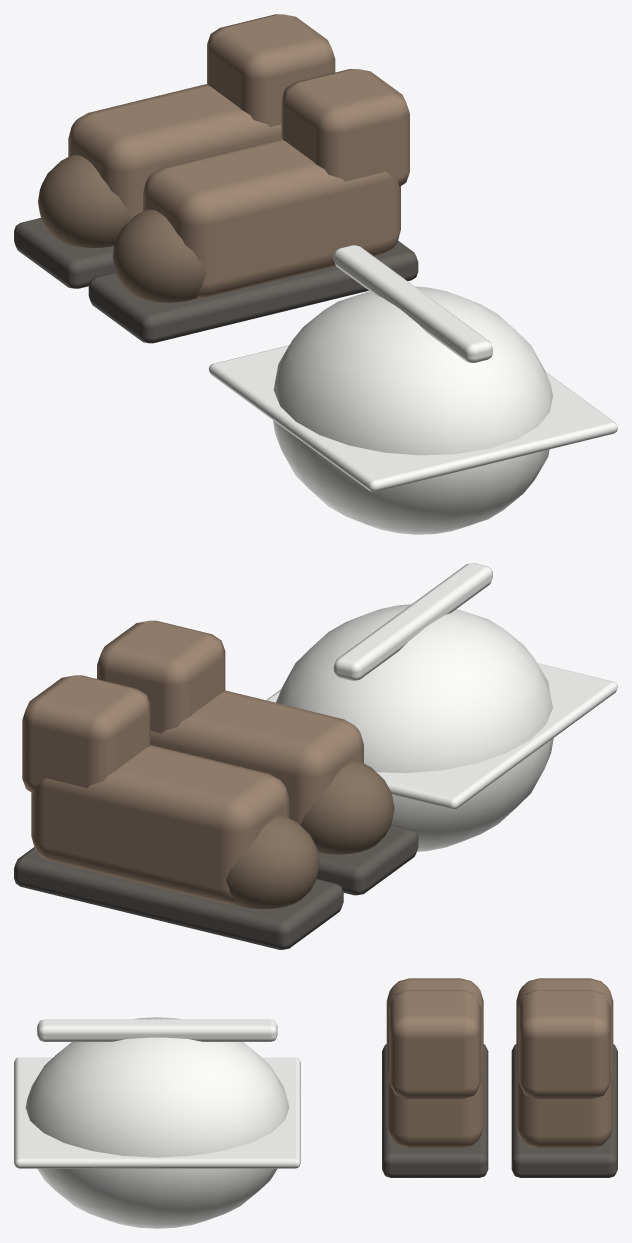
File: escena.casa.casco_obra.fbx
3 renders of one model, top to bottom at view 1: azimuth 30°, elevation 25°; view 2: azimuth 150°, elevation 25°; view 3: azimuth 270°, elevation 25°, orthographic. The views are drawn at different scales.
Parts seen in each view (by area): view 1: Casco, Bota, Bota.001, Ala del casco, Cana, Suela, Cana.001, Puntera, Puntera.001, Nervio, Suela.001; view 2: Casco, Bota.001, Bota, Cana.001, Suela.001, Cana, Ala del casco, Puntera.001, Puntera, Nervio, Suela; view 3: Casco, Cana.001, Cana, Ala del casco, Bota.001, Bota, Nervio, Suela, Suela.001.
Part boxes in pixels (x1,y1,x2,y2): Casco: (273, 286, 552, 534); Bota: (143, 138, 400, 297); Bota.001: (68, 84, 281, 218); Ala del casco: (208, 345, 617, 491); Cana: (281, 69, 409, 186); Suela: (88, 241, 418, 343); Cana.001: (207, 14, 335, 126); Puntera: (112, 209, 206, 302); Puntera.001: (38, 155, 131, 247); Nervio: (333, 245, 492, 362); Suela.001: (14, 218, 115, 288); Casco: (276, 604, 553, 851); Bota.001: (31, 745, 289, 904); Bota: (150, 690, 363, 825); Cana.001: (22, 675, 150, 793); Suela.001: (14, 847, 343, 949); Cana: (97, 620, 225, 733); Ala del casco: (266, 663, 617, 809); Puntera.001: (226, 816, 319, 908); Puntera: (300, 761, 394, 854); Nervio: (333, 563, 492, 680); Suela: (316, 824, 418, 895); Casco: (25, 1017, 289, 1228); Cana.001: (518, 990, 610, 1098); Cana: (389, 990, 481, 1098); Ala del casco: (14, 1057, 300, 1168); Bota.001: (516, 978, 613, 1148); Bota: (386, 978, 483, 1148); Nervio: (37, 1019, 277, 1041); Suela: (382, 1044, 488, 1177); Suela.001: (511, 1044, 617, 1177).
Bounding box in the file's own units: 0.3 × 0.3005 × 0.6525.
